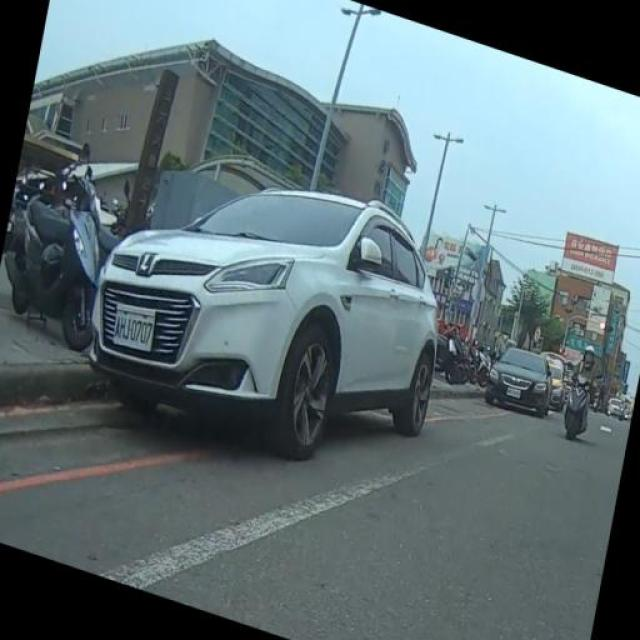illegalparking: (68, 184, 455, 474)
